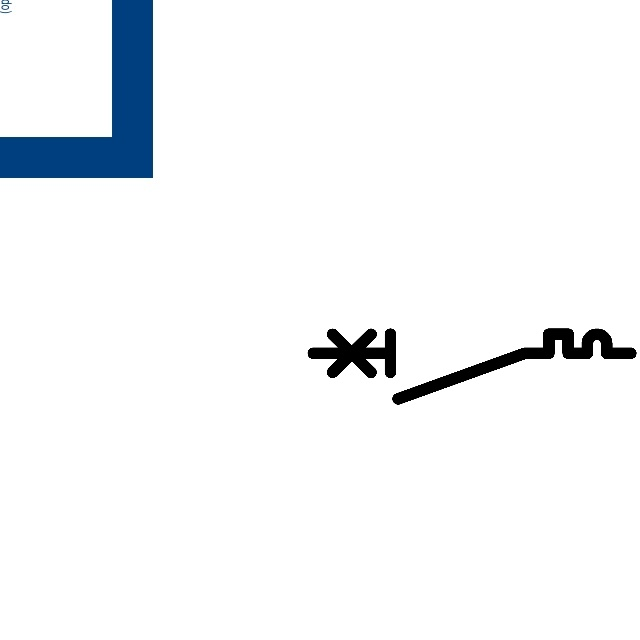interruptor_termomagnetico: (305, 326, 639, 407)
